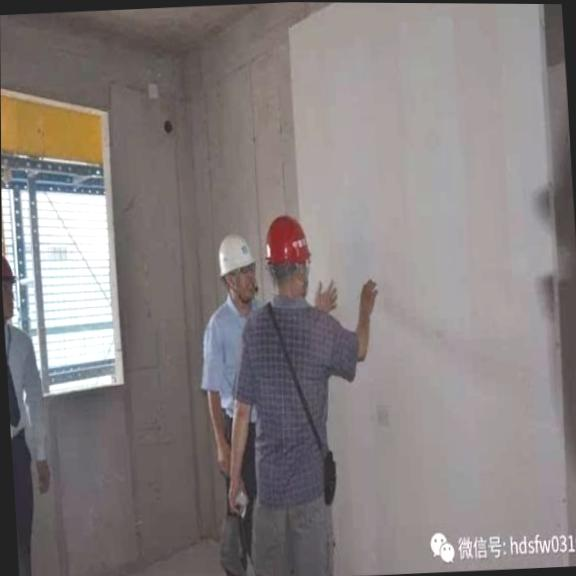no_safety_vest: (225, 284, 360, 520), (196, 295, 267, 428), (4, 311, 50, 464)
